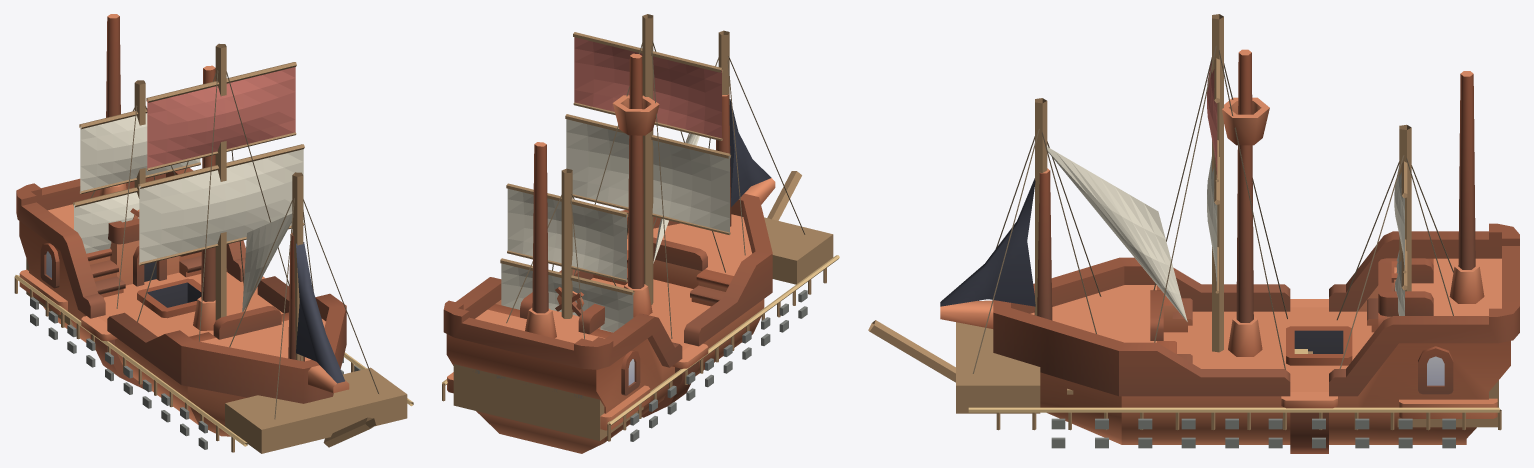
The model's file is east_indiaman-custom.glb.
3 views of the same model, side by side, from view 1: azimuth 30°, elevation 25°; view 2: azimuth 150°, elevation 25°; view 3: azimuth 270°, elevation 25° (orthographic). The views are drawn at different scales.
Visible parts, largest first — view 1: ship-pirate-large, east_indiaman linen, east_indiaman wood, east_indiaman red, east_indiaman rope, east_indiaman dark, east_indiaman gold; view 2: ship-pirate-large, east_indiaman wood, east_indiaman linen, east_indiaman red, east_indiaman dark, east_indiaman rope, east_indiaman gold; view 3: ship-pirate-large, east_indiaman wood, east_indiaman linen, east_indiaman rope, east_indiaman dark, east_indiaman gold, east_indiaman red.
Part boxes in pixels (<box>): ship-pirate-large: <box>16,14,349,436</box>; east_indiaman linen: <box>74,113,303,311</box>; east_indiaman wood: <box>14,43,407,453</box>; east_indiaman red: <box>147,67,295,169</box>; east_indiaman rope: <box>91,70,378,419</box>; east_indiaman dark: <box>30,297,360,449</box>; east_indiaman gold: <box>14,275,413,446</box>; ship-pirate-large: <box>443,53,775,453</box>; east_indiaman wood: <box>442,14,833,441</box>; east_indiaman linen: <box>501,119,729,332</box>; east_indiaman red: <box>574,37,721,139</box>; east_indiaman dark: <box>475,290,807,441</box>; east_indiaman rope: <box>506,40,805,339</box>; east_indiaman gold: <box>442,255,839,425</box>; ship-pirate-large: <box>940,49,1519,453</box>; east_indiaman wood: <box>868,14,1501,430</box>; east_indiaman linen: <box>1047,147,1404,321</box>; east_indiaman rope: <box>972,45,1453,373</box>; east_indiaman dark: <box>1051,418,1455,448</box>; east_indiaman gold: <box>968,349,1499,412</box>; east_indiaman red: <box>1207,62,1217,177</box>.
Bounding box in the file's own units: 5.71 × 10.8 × 15.47.
7 materials, 1 textured.
